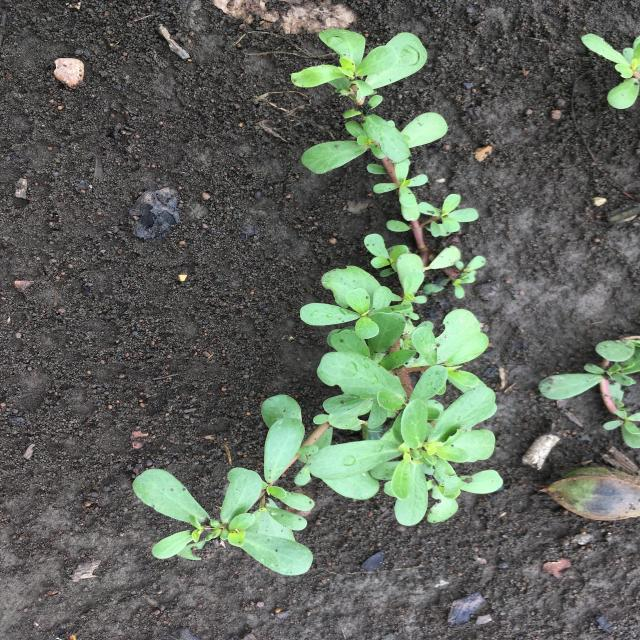Purslane: (133, 29, 504, 576), (538, 335, 640, 449), (581, 33, 640, 109)
